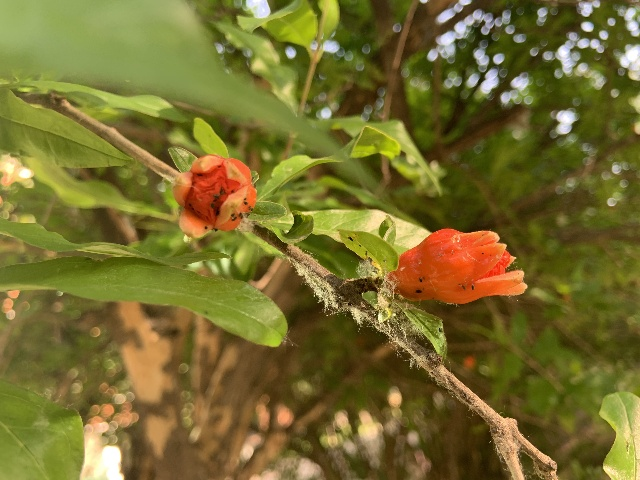flower: (390, 227, 527, 306), (173, 153, 257, 237)
